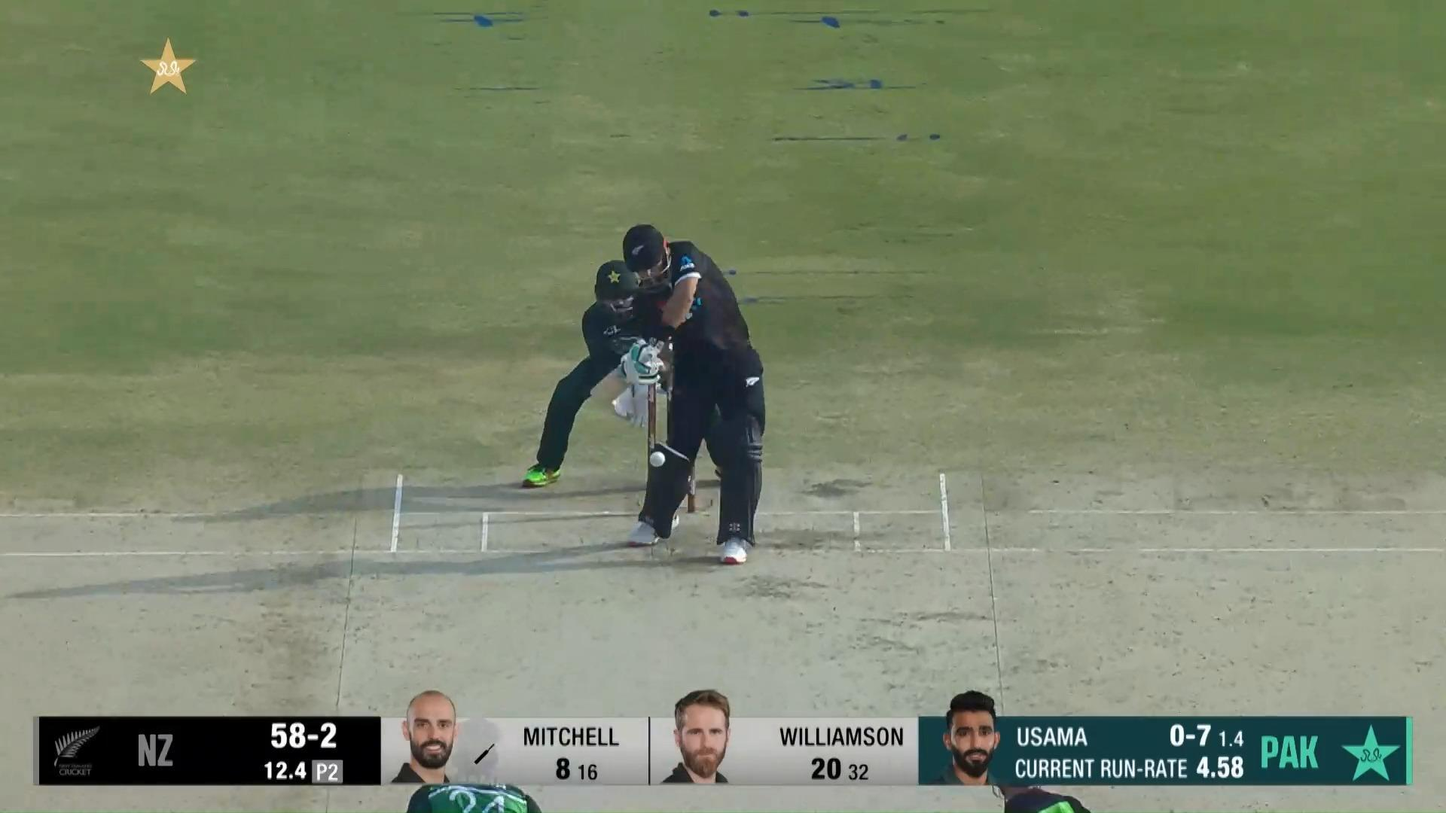BM 1: (621, 224, 767, 565)
BO: (403, 714, 545, 813)
